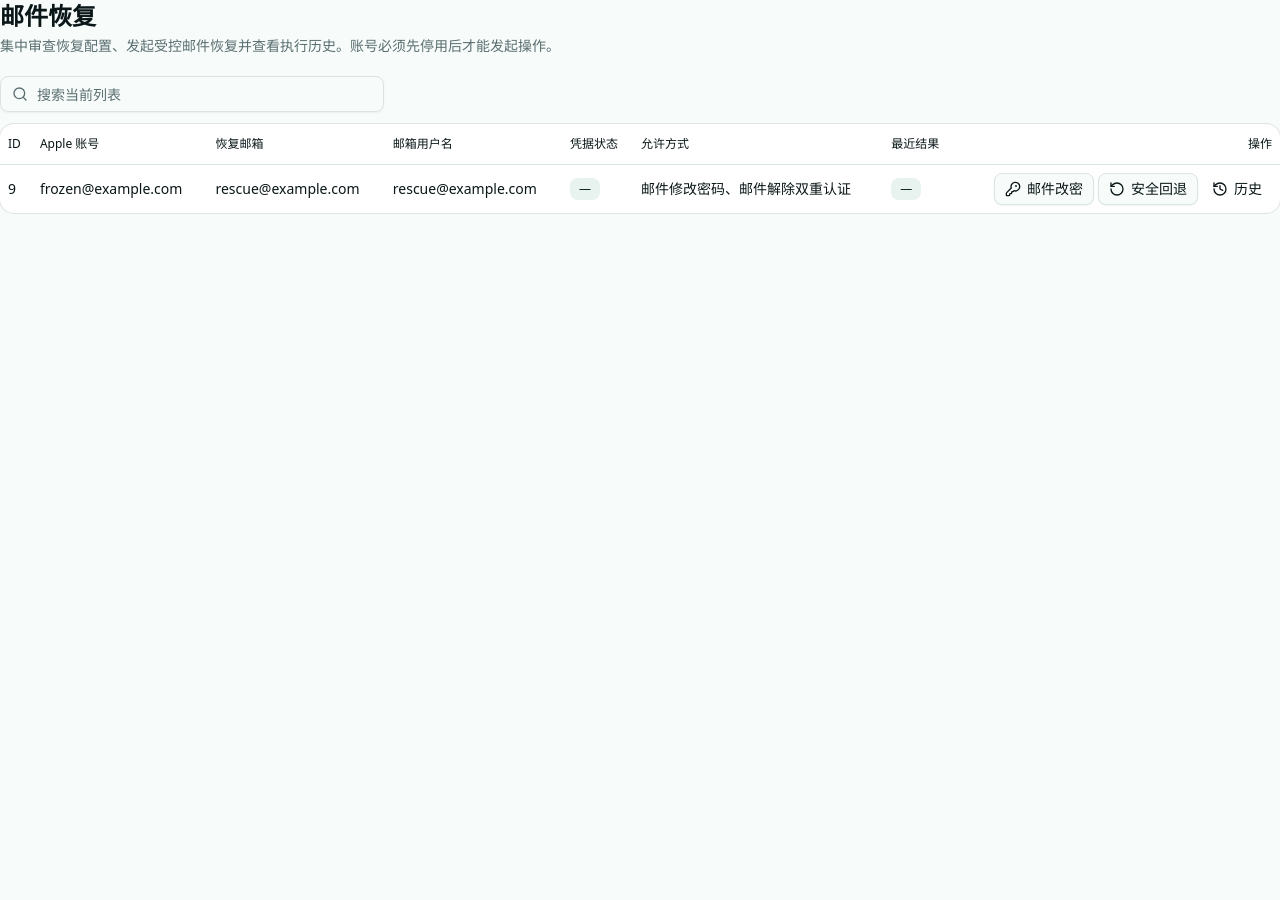
Scenario: mail recovery page › confirms, polls a bounded recovery run, and loads history
Click the button "邮件改密" at (1044, 188), box [994, 172, 1094, 204]
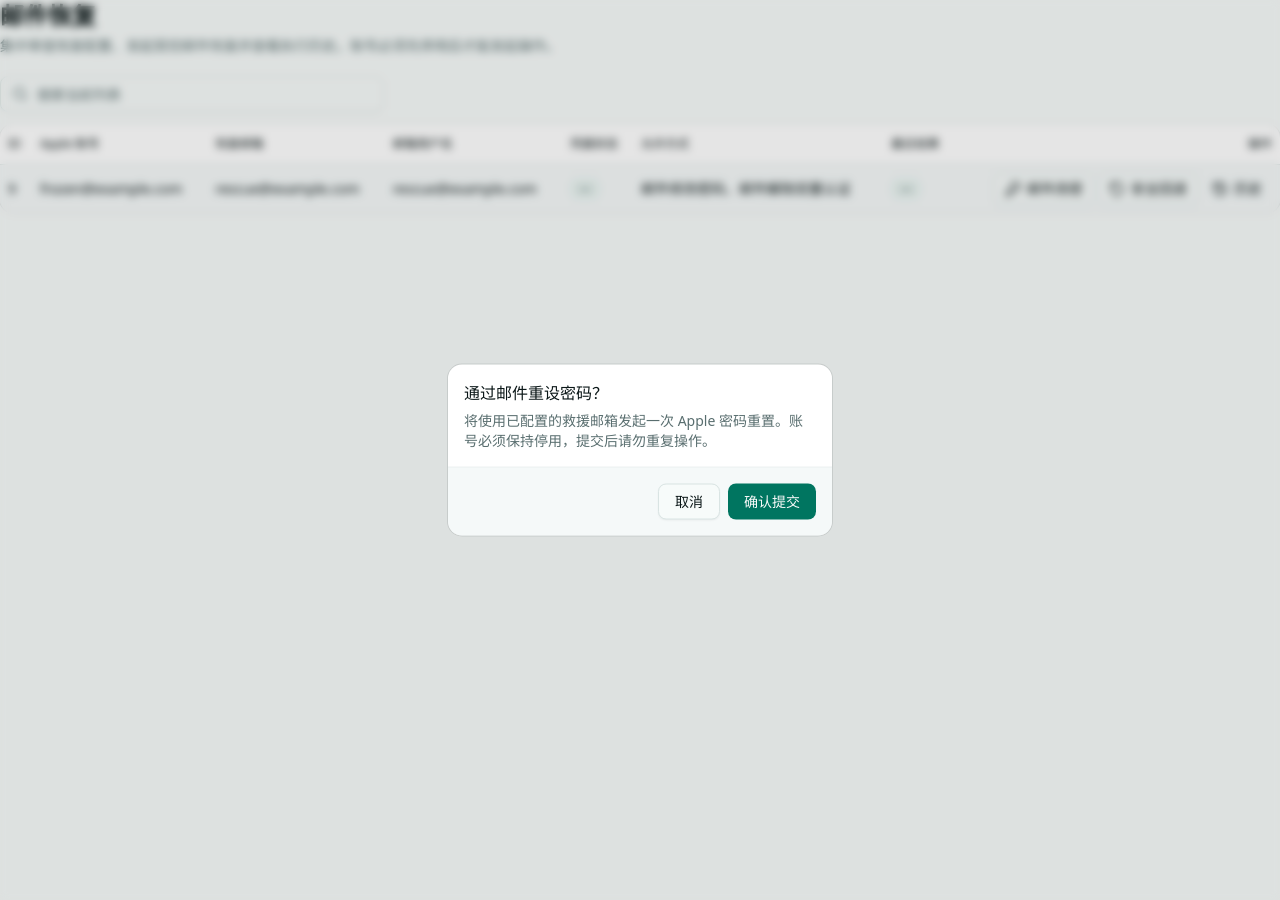
Now the heading "通过邮件重设密码？" is shown, box [464, 380, 608, 404]
Click the button "确认提交" at (772, 502), box [728, 484, 816, 520]
Wait 3000 ms
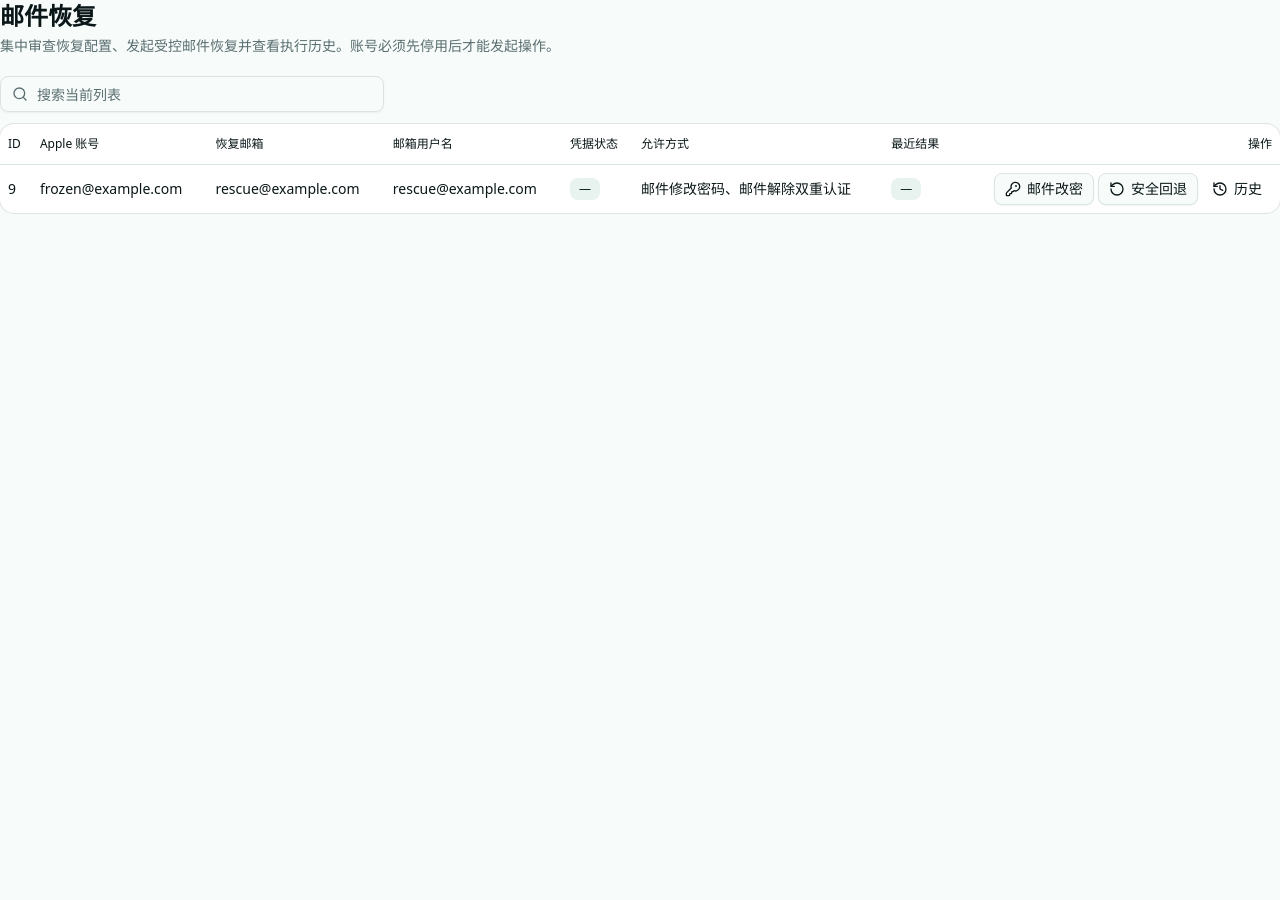
Click the button "历史" at (1237, 188), box [1202, 172, 1272, 204]
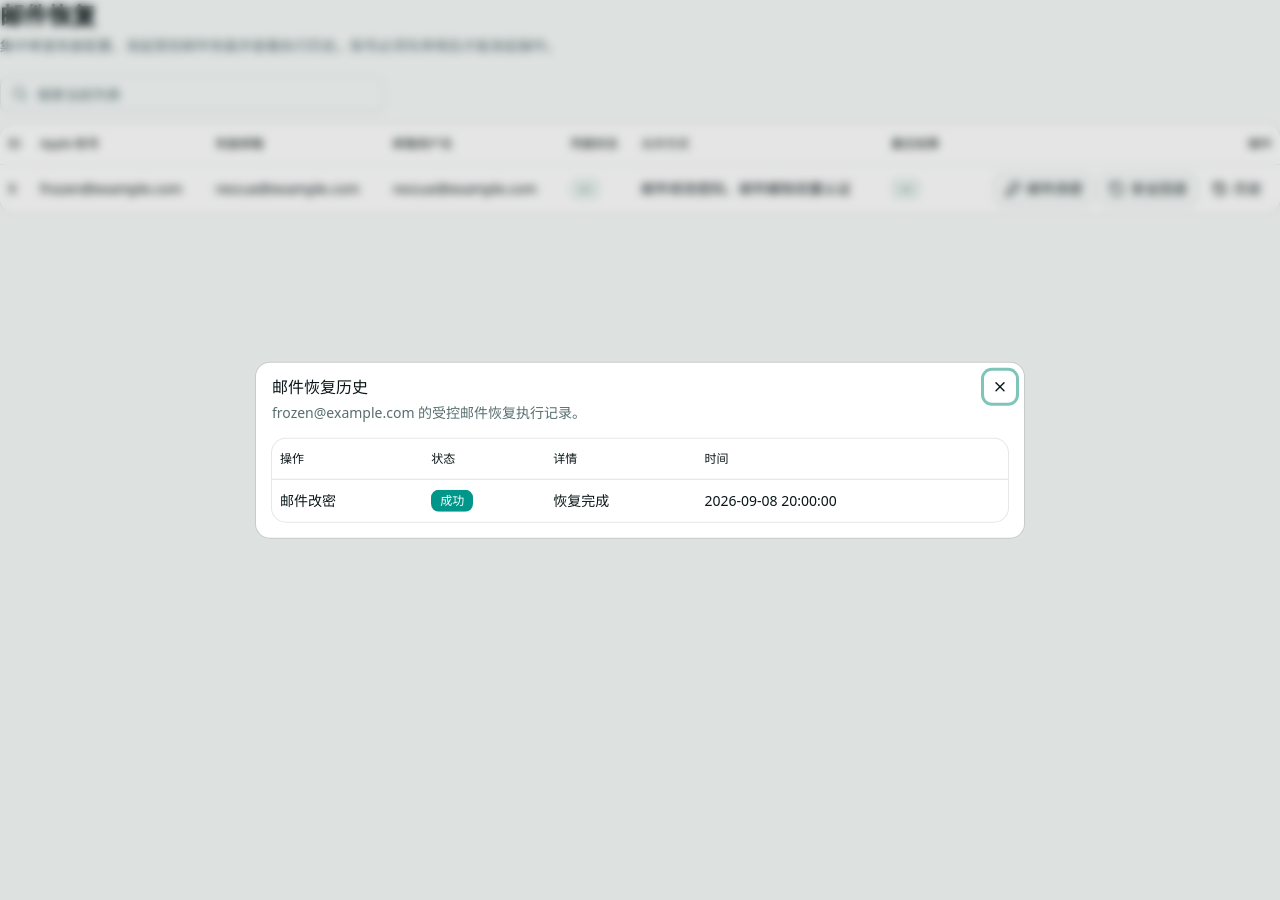
Now the heading "邮件恢复历史" is shown, box [272, 376, 368, 398]
